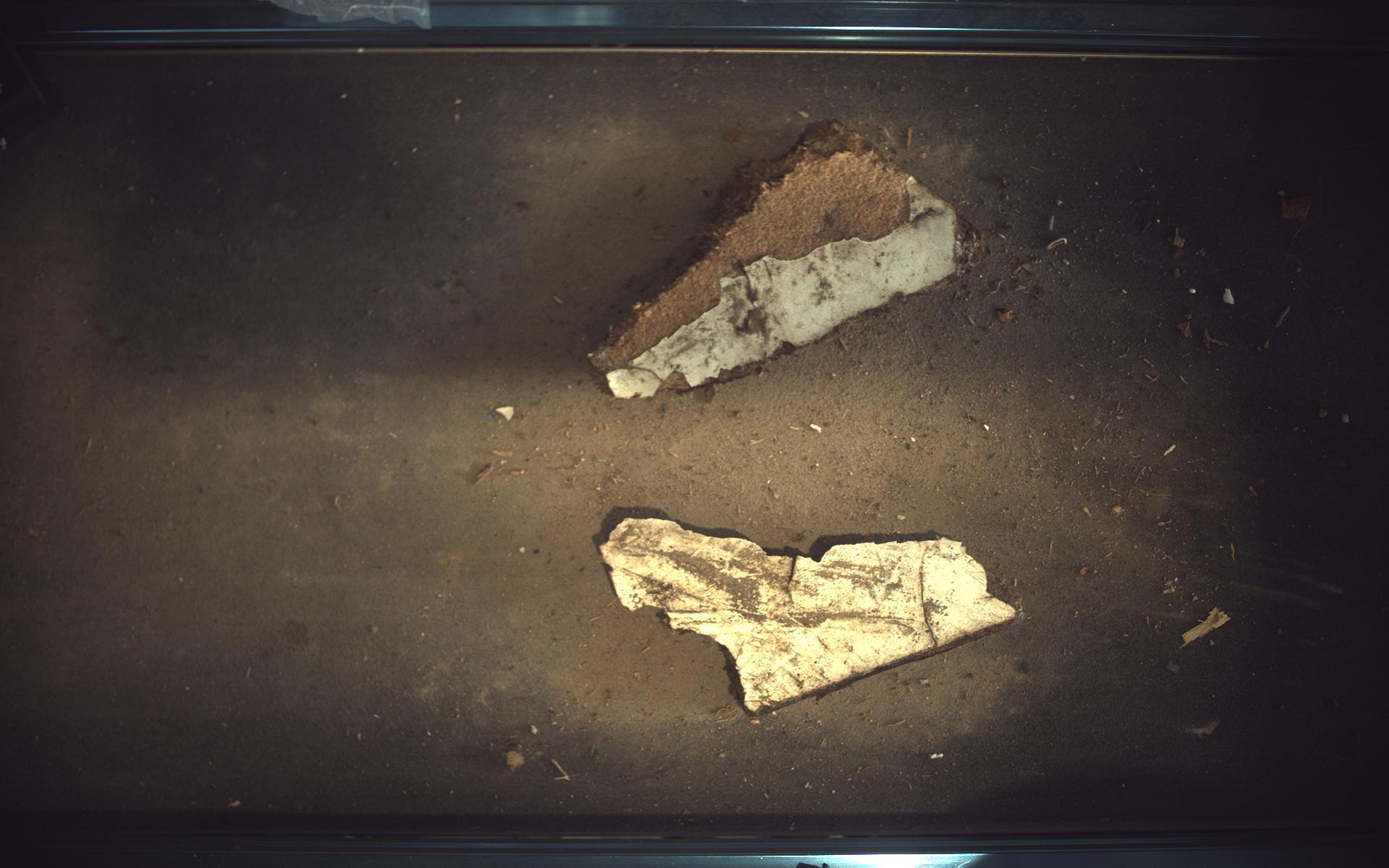wood: (590, 120, 982, 398), (601, 519, 1018, 713)
